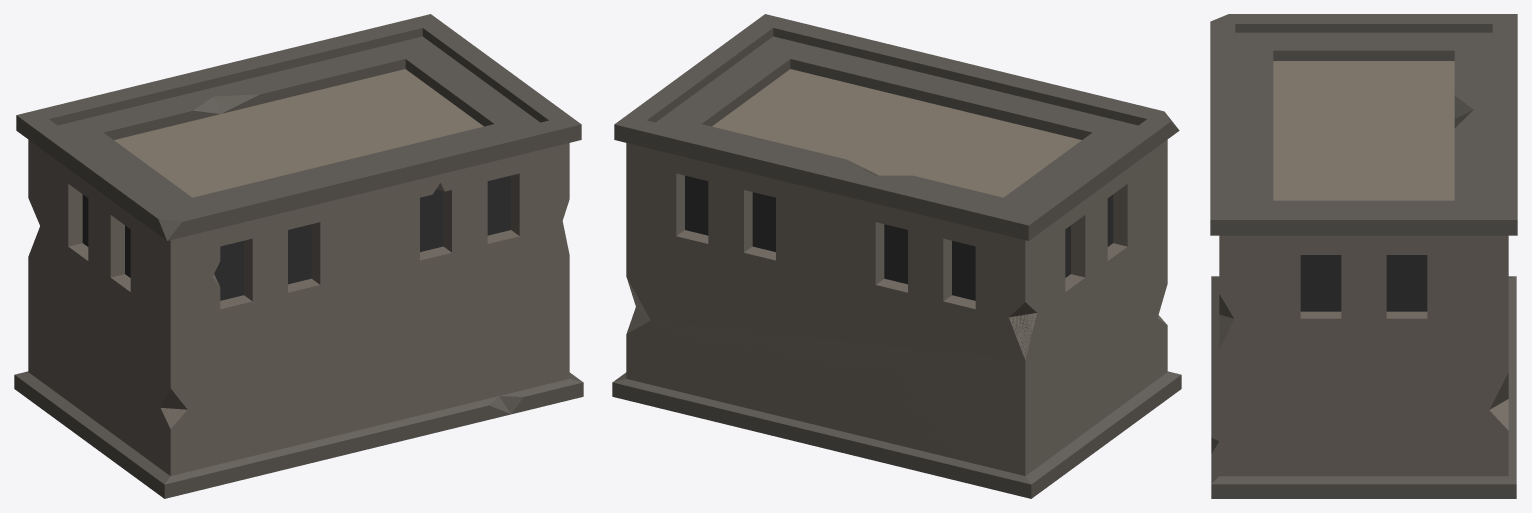
File: SM_Bld_Fort_Room_02.fbx
The picture shows the model from 3 angles, left to right: view 1: azimuth 30°, elevation 25°; view 2: azimuth 150°, elevation 25°; view 3: azimuth 270°, elevation 25°; orthographic projection.
Parts seen in each view (by area): view 1: SM_Bld_Fort_Room_02; view 2: SM_Bld_Fort_Room_02; view 3: SM_Bld_Fort_Room_02.
Boxes of the visible parts, x1,y1,x2,y2 form: SM_Bld_Fort_Room_02: (14,14,583,498); SM_Bld_Fort_Room_02: (612,14,1181,498); SM_Bld_Fort_Room_02: (1210,14,1517,498).
Bounding box in the file's own units: 10.61 × 6.61 × 6.62.
